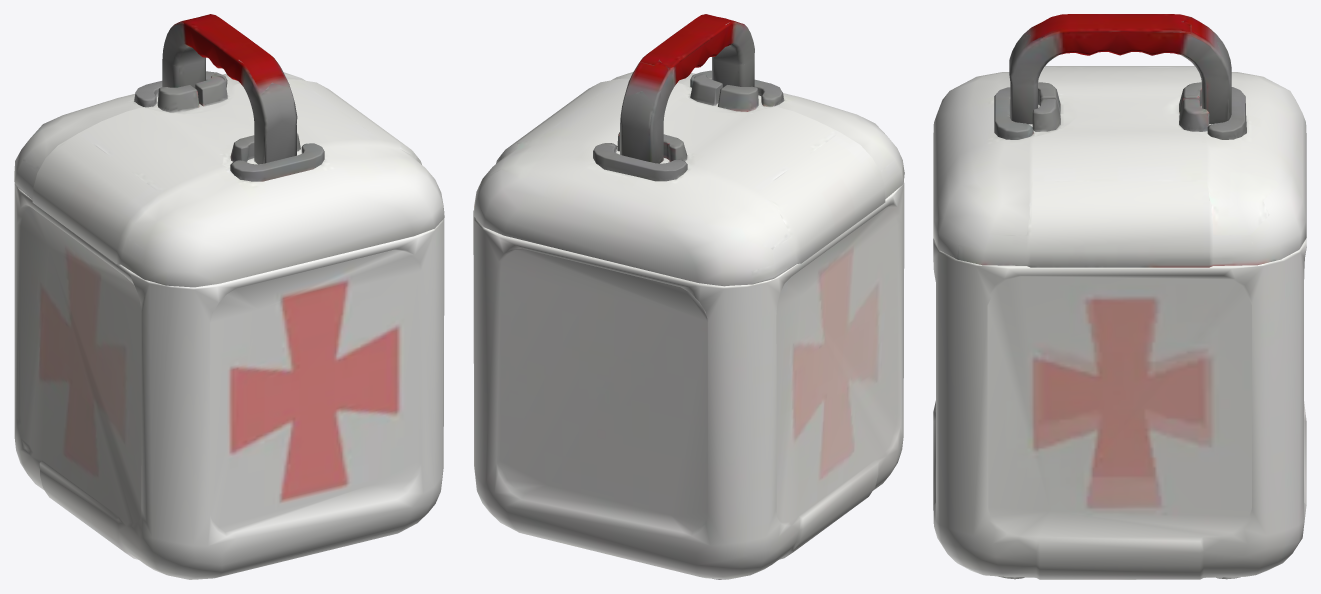
File: rescue.glb
3 renders of one model, left to right at view 1: azimuth 30°, elevation 25°; view 2: azimuth 150°, elevation 25°; view 3: azimuth 270°, elevation 25°, orthographic. The views are drawn at different scales.
Size of the model in its own units: 0.6489 by 0.9517 by 0.6382.
1 material, 1 textured.
